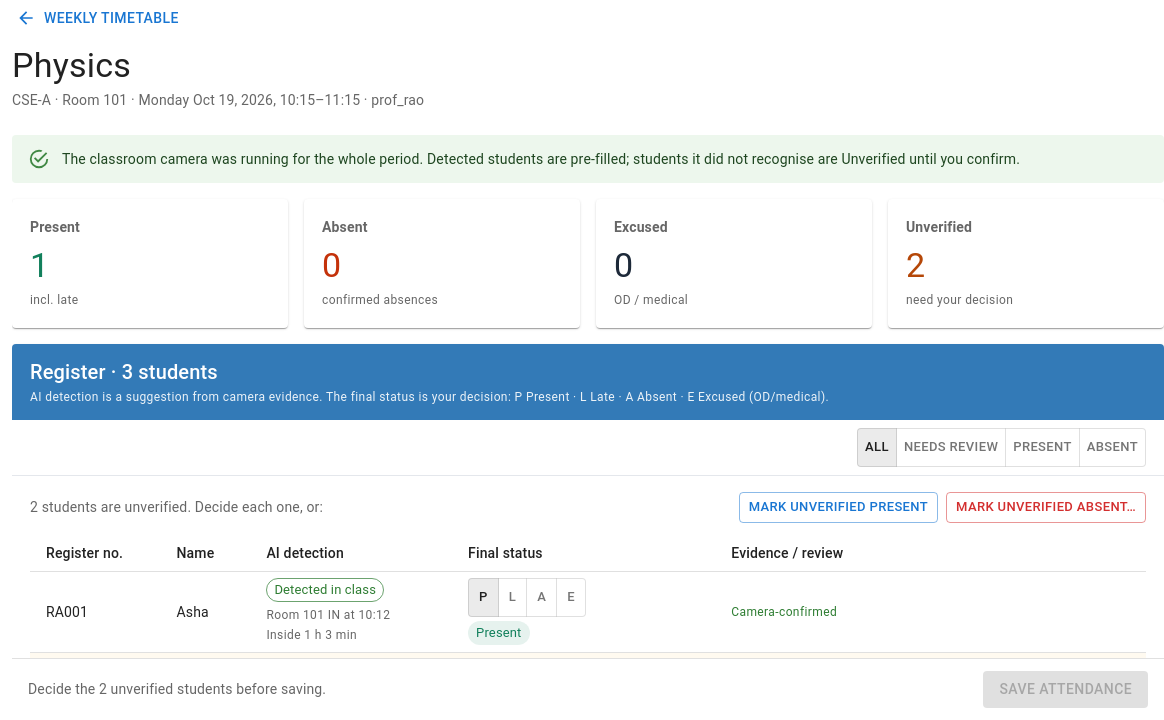
class register › marking a camera-detected student absent needs a reason before saving
Click the button "Mark unverified present".
click(838, 508)  # box [739,492,938,523]
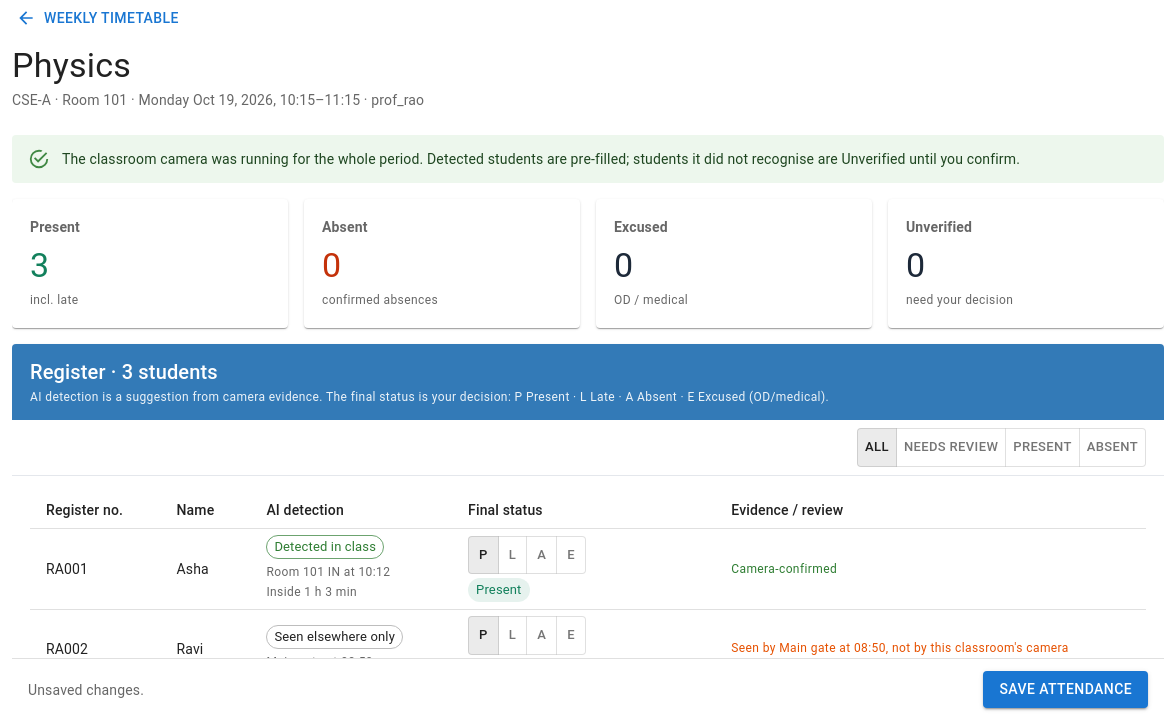
Click the button named "Absent for Asha".
click(542, 555)  # box [526,536,557,574]
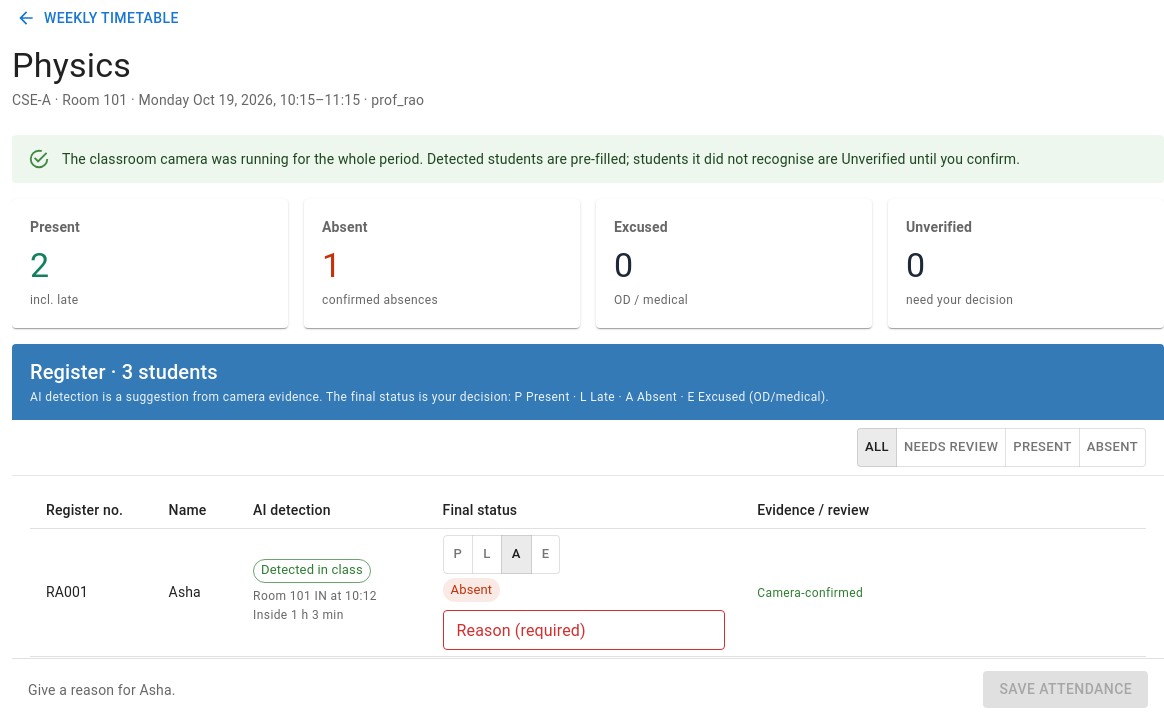
Expected: the button "Save Attendance" is disabled, [984,672,1148,708]
Expected: the text "Give a reason for Asha." is shown, [28,682,176,698]
Type "Left before roll call" into the field named "Reason for Asha".
click(584, 630); type("Left before roll call")  # box [443,610,725,650]
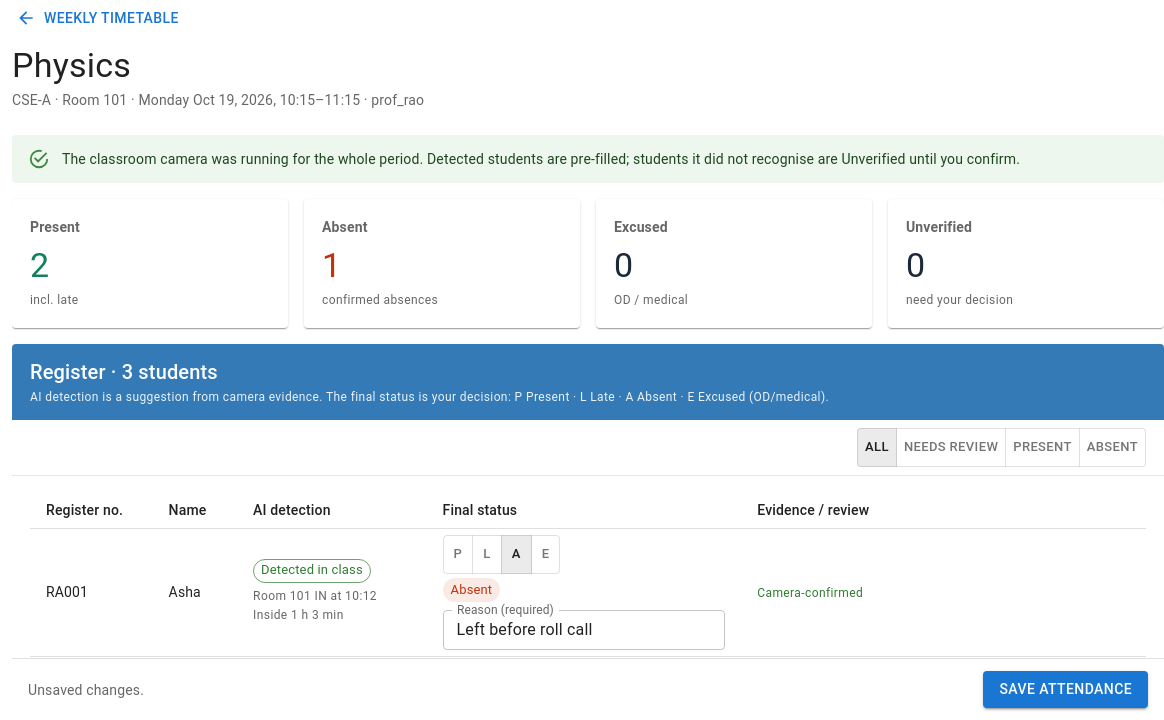
Expected: the button "Save Attendance" is enabled, [984,672,1148,708]
